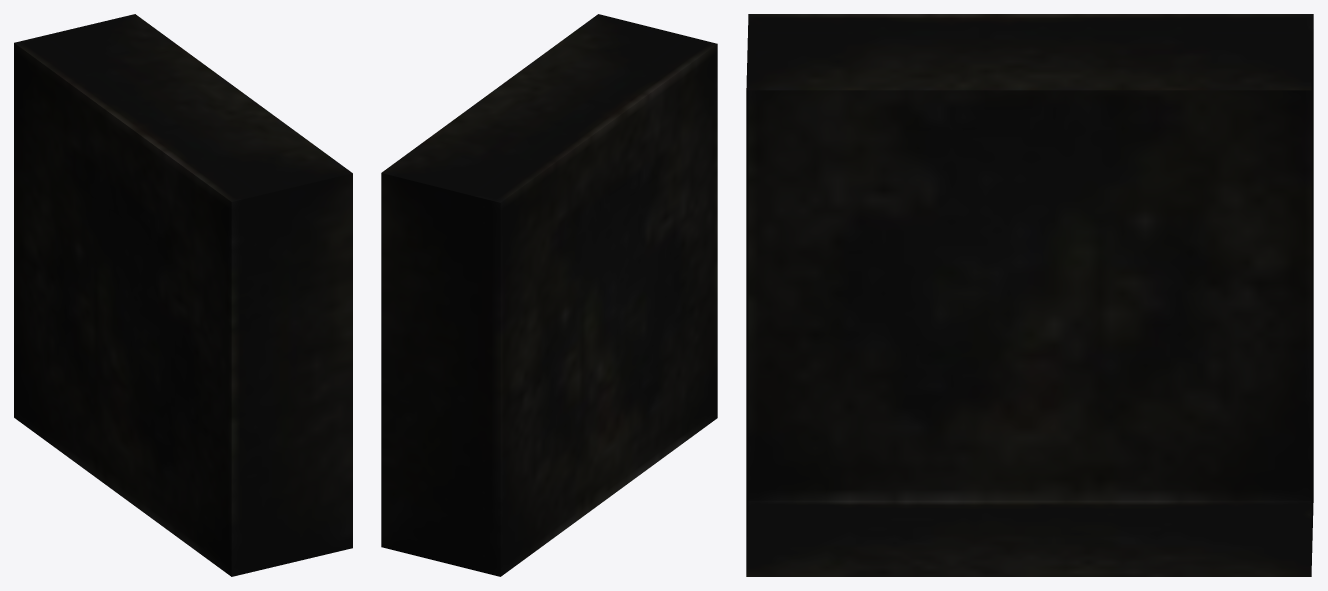
The model's file is SingleWindow_Blind_02.FBX.
The picture shows the model from 3 angles, left to right: view 1: azimuth 30°, elevation 25°; view 2: azimuth 150°, elevation 25°; view 3: azimuth 270°, elevation 25°; orthographic projection. The views are drawn at different scales.
Visible parts, largest first — view 1: SingleWindow_Blind_02; view 2: SingleWindow_Blind_02; view 3: SingleWindow_Blind_02.
Boxes of the visible parts, bbox=[...] form: SingleWindow_Blind_02: bbox=[14, 14, 352, 576]; SingleWindow_Blind_02: bbox=[381, 14, 717, 576]; SingleWindow_Blind_02: bbox=[746, 14, 1313, 576].
Bounding box in the file's own units: 68.11 × 203 × 214.
